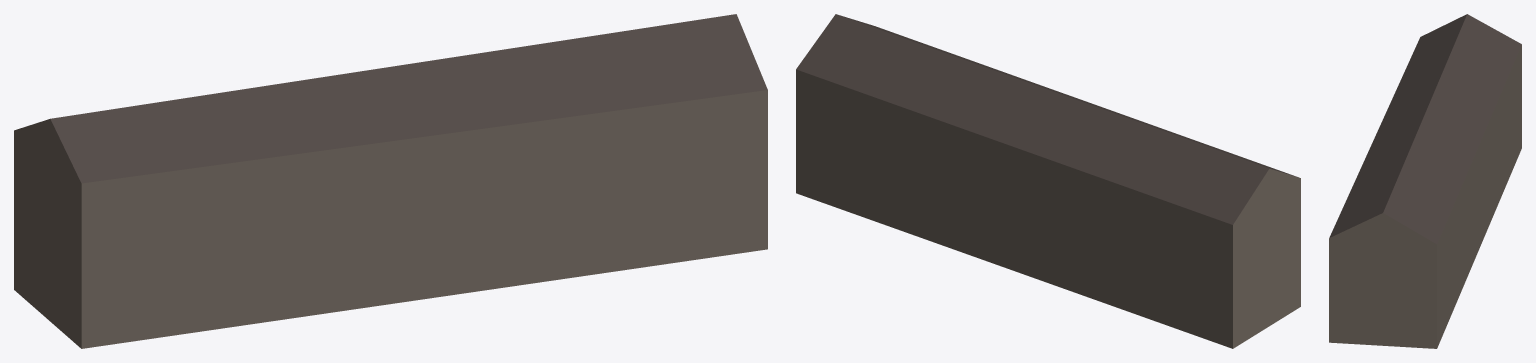
The picture shows the model from 3 angles, left to right: view 1: azimuth 30°, elevation 25°; view 2: azimuth 150°, elevation 25°; view 3: azimuth 270°, elevation 25°; orthographic projection. The views are drawn at different scales.
Parts seen in each view (by area): view 1: HP-w1512481858; view 2: HP-w1512481858; view 3: HP-w1512481858.
Boxes of the visible parts, x1,y1,x2,y2 form: HP-w1512481858: [14, 14, 767, 348]; HP-w1512481858: [796, 14, 1300, 348]; HP-w1512481858: [1329, 14, 1521, 348].
Bounding box in the file's own units: 37.61 × 11.45 × 15.05.
